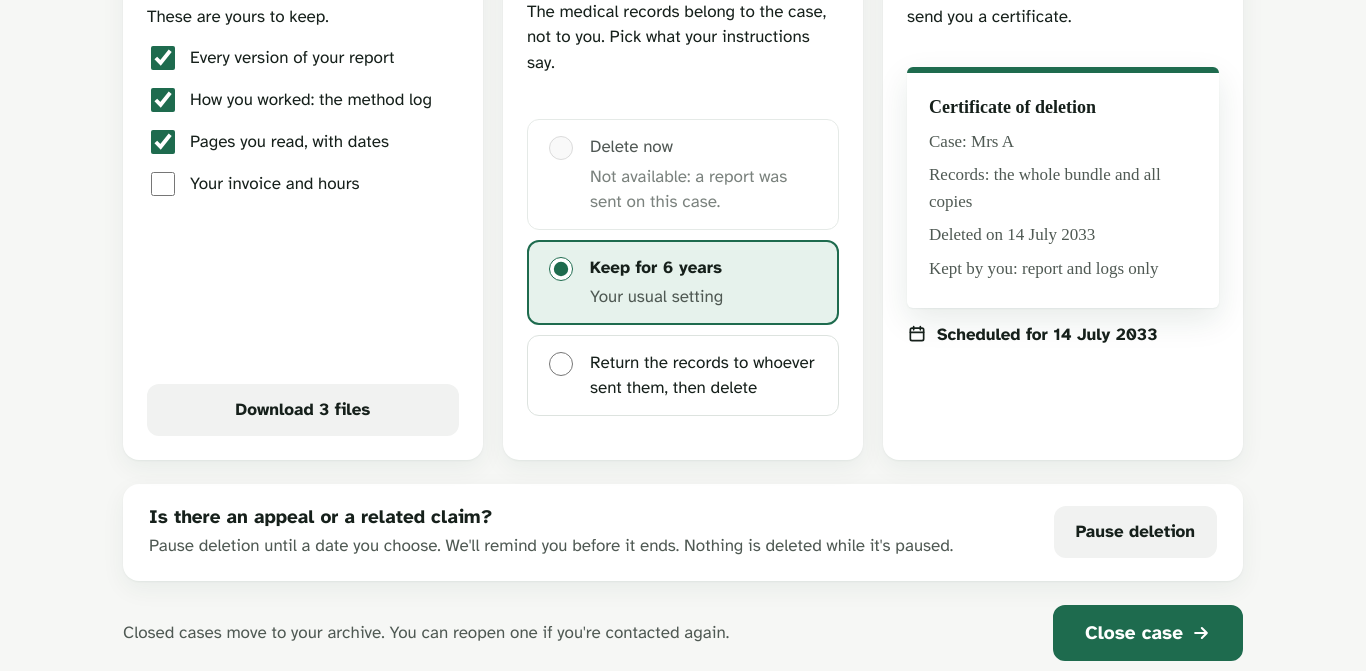
Test: pausing deletion asks why and until when, then shows it is paused
(page scrolled)
Step 1. Click the button "Pause deletion" → [1135, 532], box [1054, 506, 1217, 558]
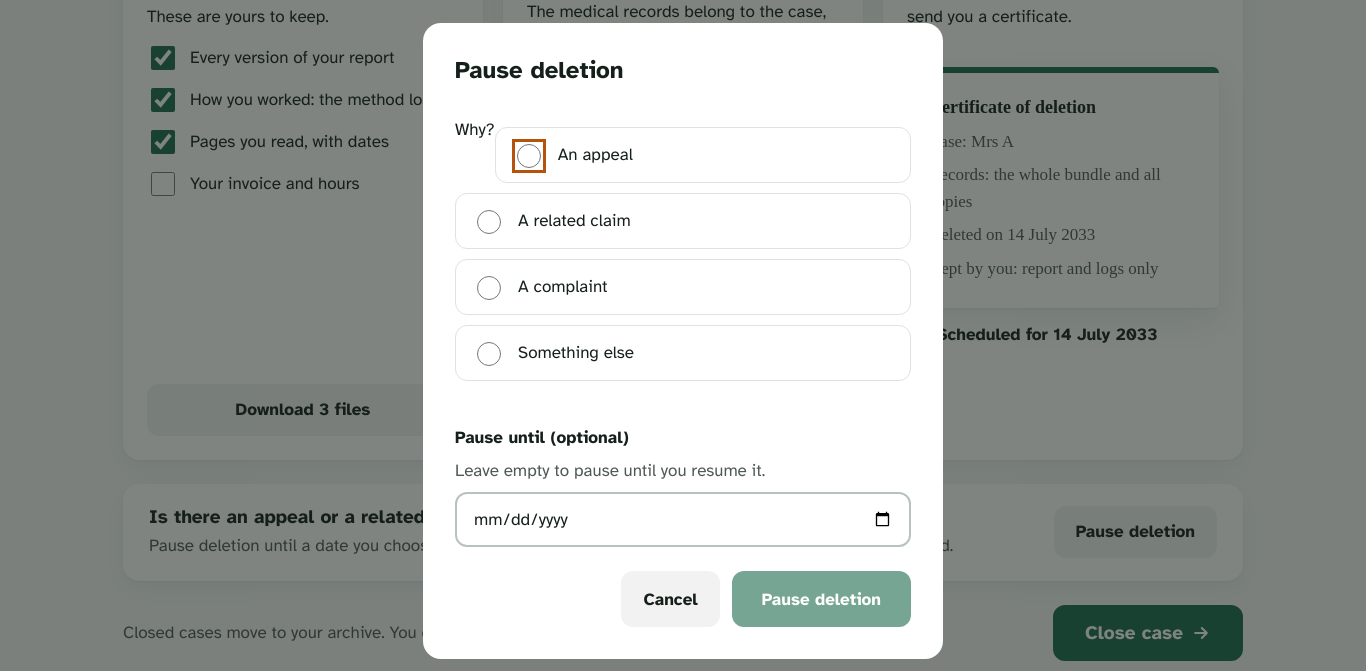
Step 2. Click the radio button labelled "An appeal" → [529, 156], box [517, 144, 541, 168]
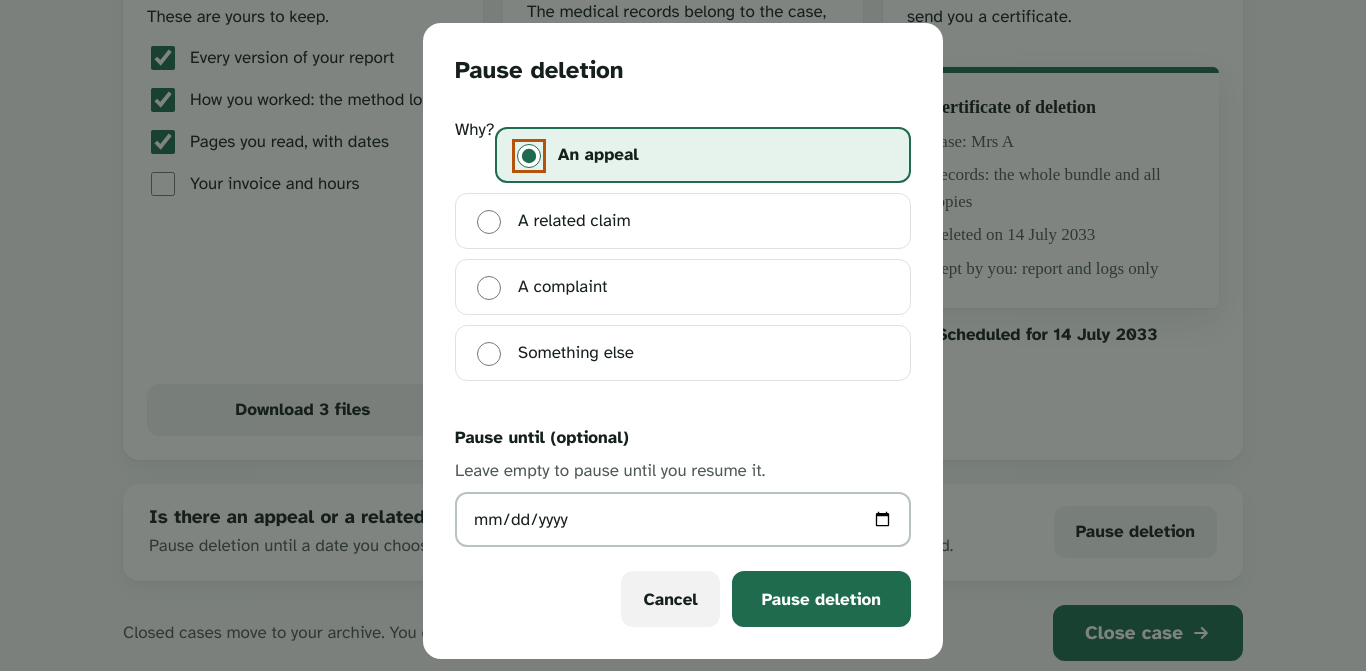
Step 3. Click the button "Pause deletion" below "Pause until (optional)" → [821, 599], box [732, 571, 911, 627]
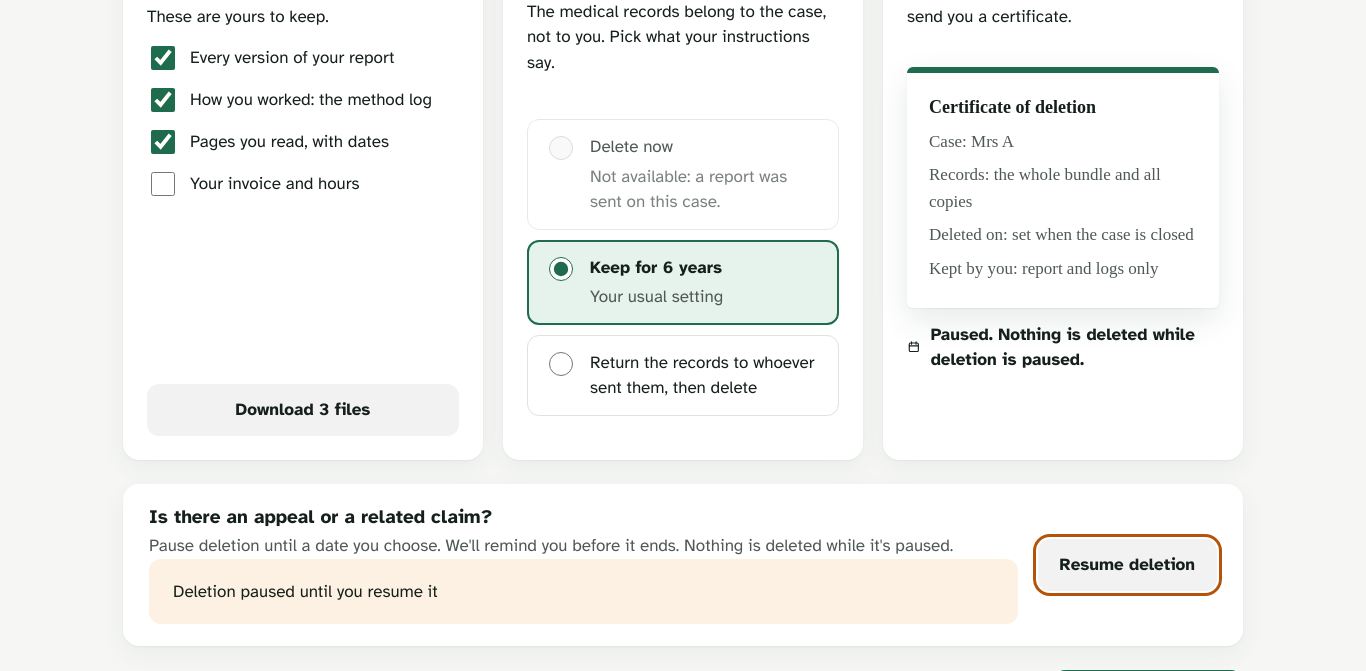
Expected: the text "Deletion paused until you resume it" is shown, [173, 581, 438, 602]
Expected: the button "Resume deletion" is shown, [1038, 539, 1217, 591]
